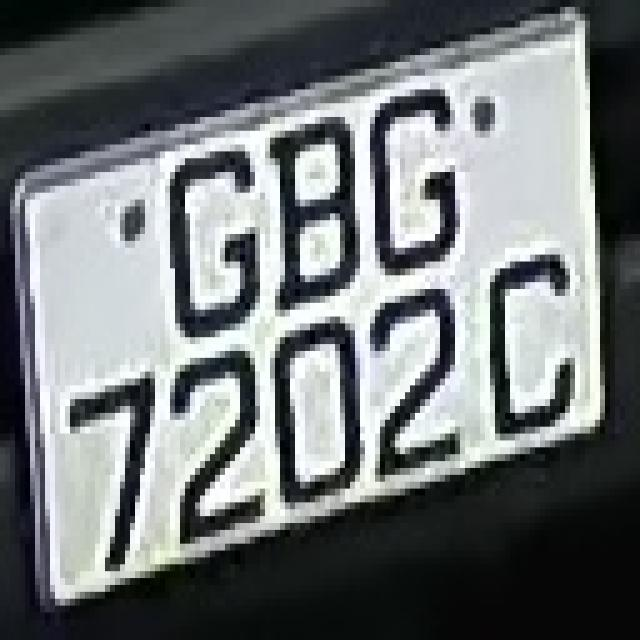0: (265, 310, 365, 516)
2: (160, 323, 265, 564), (365, 268, 460, 468)
7: (50, 365, 165, 564)
B: (255, 110, 370, 330)
C: (470, 241, 590, 454)
G: (150, 131, 270, 358), (360, 82, 470, 296)
